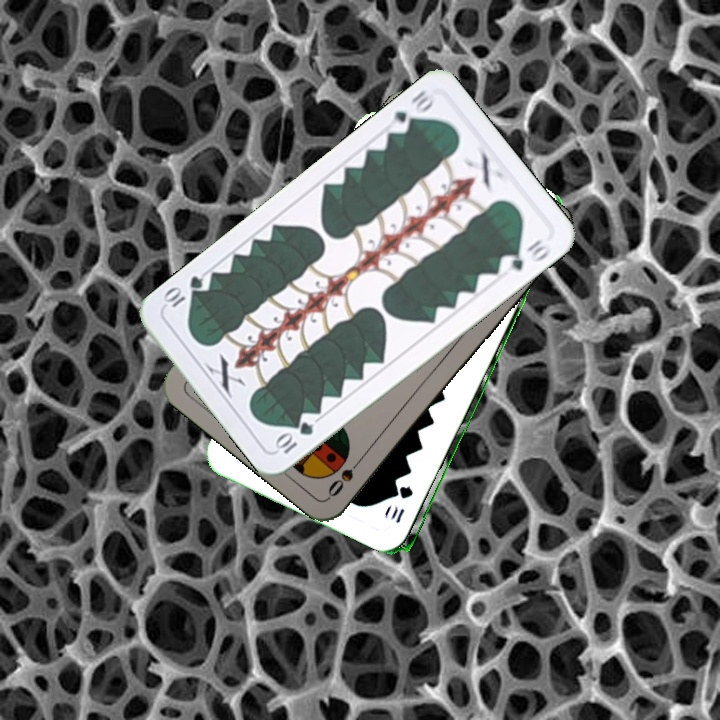G10: (389, 86, 437, 137), (271, 417, 316, 457), (386, 482, 416, 526)
SO: (323, 450, 368, 500)
